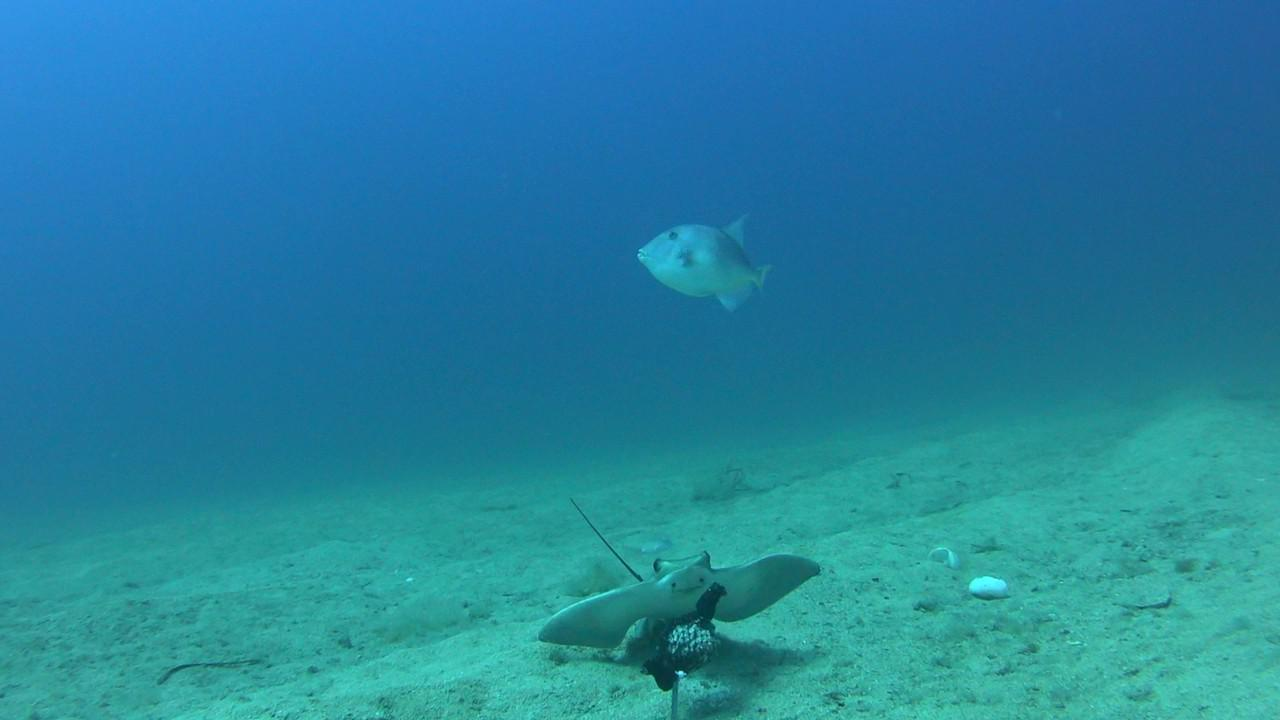balistes: (632, 207, 774, 319)
myliobatis: (552, 498, 829, 656)
